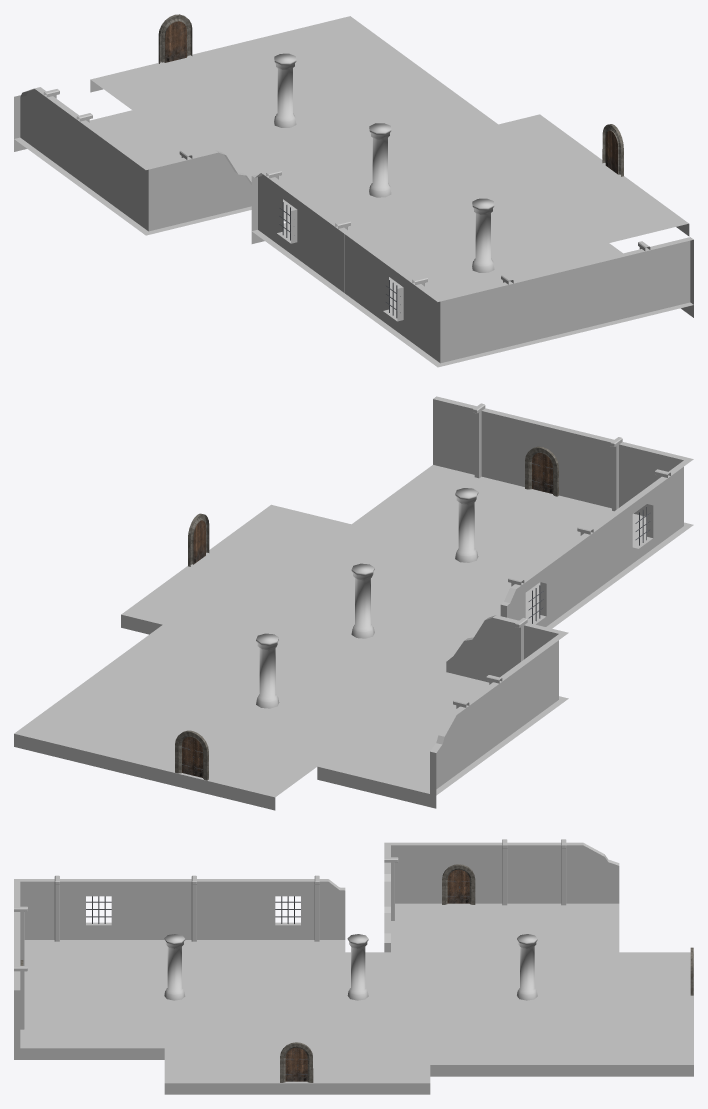
Rendered from def005_room.fbx.
The picture shows the model from 3 angles, top to bottom: view 1: azimuth 30°, elevation 25°; view 2: azimuth 150°, elevation 25°; view 3: azimuth 270°, elevation 25°; orthographic projection. The views are drawn at different scales.
Visible parts, largest first — view 1: def005_floor, wall005_3, pillar_002.011, pillar_002.012, pillar_002.013, def005_door_wood_4, def005_door_stone_4; view 2: def005_floor, wall005_3, pillar_002.012, pillar_002.013, pillar_002.011, def005_door_wood_4, def005_door_wood_1, def005_door_stone_4, def005_door_stone_1; view 3: def005_floor, wall005_3, pillar_002.011, pillar_002.012, pillar_002.013, def005_door_wood_3, def005_door_wood_2, def005_door_stone_3, def005_door_stone_2.
Boxes of the visible parts, box(x1,y1,x2,y2) form: def005_floor: box(14, 16, 693, 367); wall005_3: box(14, 87, 693, 363); pillar_002.011: box(369, 123, 391, 197); pillar_002.012: box(472, 198, 494, 272); pillar_002.013: box(274, 53, 296, 127); def005_door_wood_4: box(165, 21, 186, 62); def005_door_stone_4: box(158, 14, 192, 63); def005_floor: box(14, 465, 693, 810); wall005_3: box(430, 396, 693, 795); pillar_002.012: box(455, 488, 478, 562); pillar_002.013: box(256, 633, 279, 708); pillar_002.011: box(351, 563, 374, 638); def005_door_wood_4: box(182, 737, 202, 777); def005_door_wood_1: box(532, 453, 552, 493); def005_door_stone_4: box(175, 730, 208, 780); def005_door_stone_1: box(525, 446, 558, 496); def005_floor: box(14, 903, 693, 1094); wall005_3: box(14, 842, 619, 1048); pillar_002.011: box(347, 934, 368, 1000); pillar_002.012: box(164, 934, 185, 1000); pillar_002.013: box(517, 934, 537, 1000); def005_door_wood_3: box(447, 869, 469, 903); def005_door_wood_2: box(285, 1047, 307, 1081); def005_door_stone_3: box(442, 864, 475, 904); def005_door_stone_2: box(280, 1042, 313, 1082).
Size of the model in its own units: 3360 by 629 by 5295.
